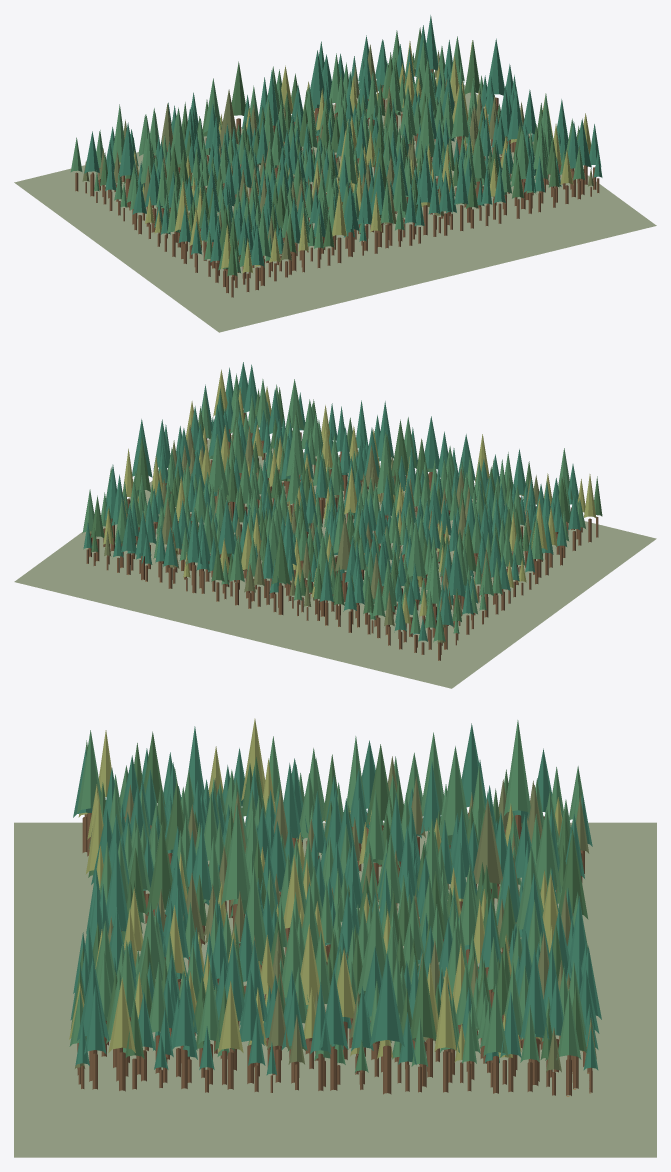
3 views of the same model, one above another, from view 1: azimuth 30°, elevation 25°; view 2: azimuth 150°, elevation 25°; view 3: azimuth 270°, elevation 25° (orthographic). The views are drawn at different scales.
Visible parts, largest first — view 1: ground, tree:T00755, tree:T00162, tree:T00474, tree:T00352, tree:T00534, tree:T00014, tree:T00084, tree:T00780, tree:T00779, tree:T00559, tree:T00696 (+11 smaller); view 2: ground, tree:T00014, tree:T00346, tree:T00198, tree:T00139, tree:T00022, tree:T00084, tree:T00162, tree:T00099, tree:T00534, tree:T00751, tree:T00559 (+1 smaller); view 3: ground, tree:T00352, tree:T00559, tree:T00099, tree:T00416, tree:T00127, tree:T00287, tree:T00139, tree:T00198, tree:T00736, tree:T00640, tree:T00688 (+56 smaller).
Boxes of the visible parts, <box> form: ground: <box>14,80,656,332</box>; tree:T00755: <box>416,147,434,235</box>; tree:T00162: <box>118,122,137,207</box>; tree:T00474: <box>451,80,468,154</box>; tree:T00352: <box>485,38,504,111</box>; tree:T00534: <box>416,96,435,159</box>; tree:T00014: <box>231,61,247,134</box>; tree:T00084: <box>310,50,324,137</box>; tree:T00780: <box>344,185,360,256</box>; tree:T00779: <box>332,188,347,262</box>; tree:T00559: <box>338,122,357,188</box>; tree:T00696: <box>471,129,486,208</box>; ground: <box>14,435,656,688</box>; tree:T00014: <box>271,528,290,614</box>; tree:T00346: <box>207,434,228,503</box>; tree:T00198: <box>405,520,426,610</box>; tree:T00139: <box>335,516,350,601</box>; tree:T00022: <box>186,511,202,592</box>; tree:T00084: <box>218,499,235,586</box>; tree:T00162: <box>447,542,465,628</box>; tree:T00099: <box>426,545,441,637</box>; tree:T00534: <box>285,414,305,478</box>; tree:T00751: <box>424,416,439,491</box>; tree:T00559: <box>377,431,395,517</box>; ground: <box>14,822,656,1157</box>; tree:T00352: <box>370,953,404,1094</box>; tree:T00559: <box>221,803,249,944</box>; tree:T00099: <box>504,720,530,839</box>; tree:T00416: <box>319,969,348,1090</box>; tree:T00127: <box>520,948,549,1085</box>; tree:T00287: <box>410,954,436,1087</box>; tree:T00139: <box>473,799,502,893</box>; tree:T00198: <box>439,746,468,841</box>; tree:T00736: <box>108,977,135,1091</box>; tree:T00640: <box>171,974,197,1088</box>; tree:T00688: <box>146,822,172,960</box>.
Size of the model in its own units: 336 by 82.06 by 272.
